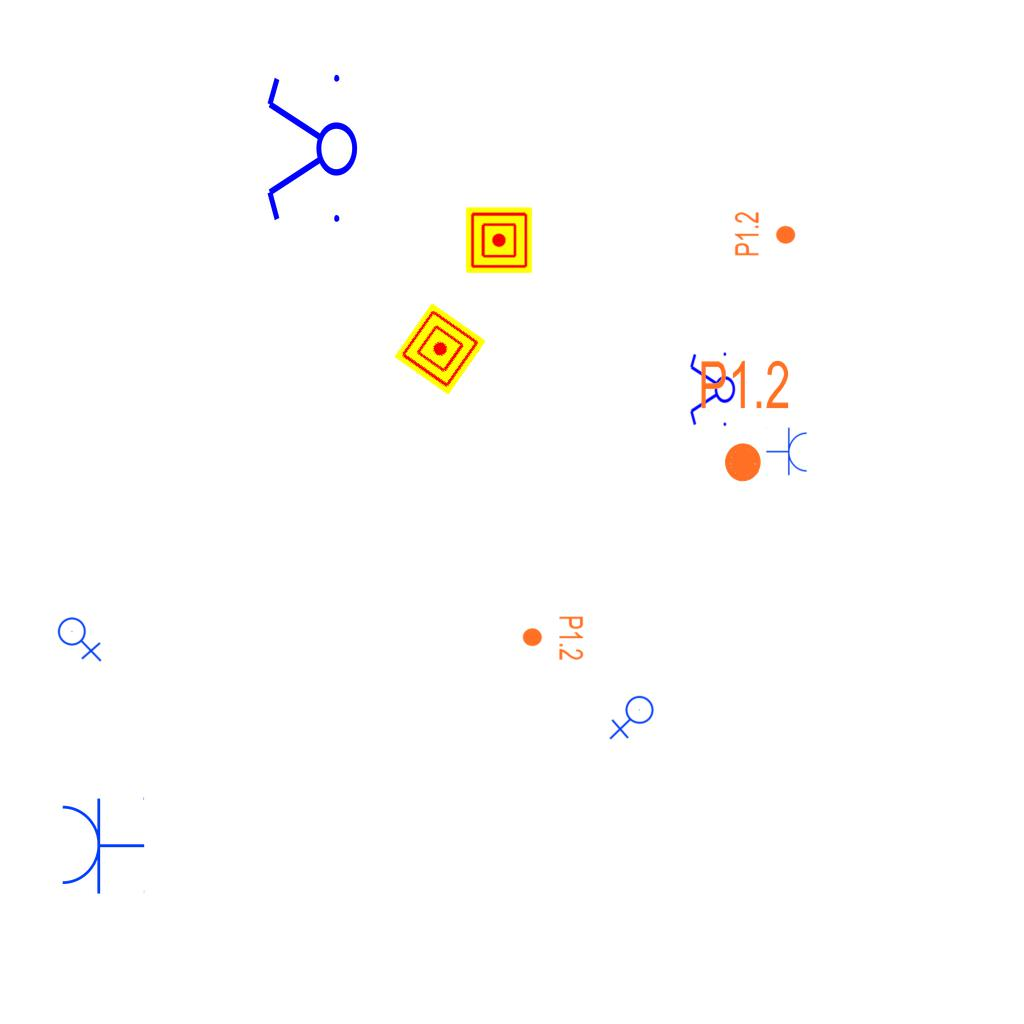Downlight_LED_Einbauleuchten_Flur: (698, 357, 791, 485), (521, 615, 585, 661), (733, 211, 797, 257)
Elektroanschluss_allgemein_230V_Geraeteanschlussdose_230V: (57, 613, 104, 662), (609, 695, 658, 742)
NAM-Nichtautomatischer_Melder: (394, 303, 486, 395), (466, 207, 532, 273)
Schukosteckdose_einfach: (58, 795, 145, 895), (766, 427, 809, 477)
Serienschalter: (263, 66, 359, 234), (688, 348, 736, 432)
